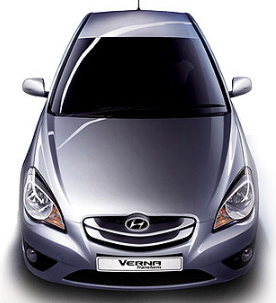car: (18, 6, 262, 294)
